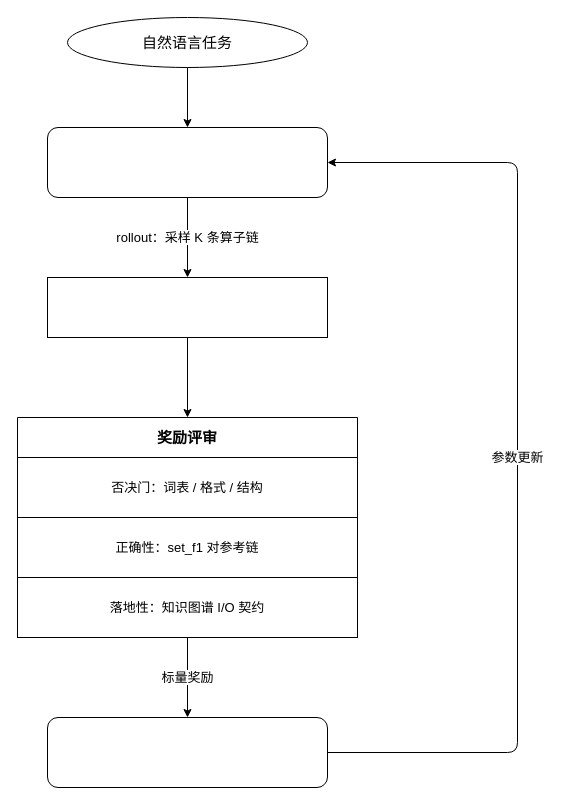
Some shapes in this 561 by 805 pixel diagram are drawn without their labels. Each missing label, with the box of its shape:
GIS 模型（任一模型线）: (46, 126, 328, 198)
强化学习算法（RFT / DPO / GRPO）: (46, 716, 328, 788)
语义算子链: (46, 276, 328, 338)
